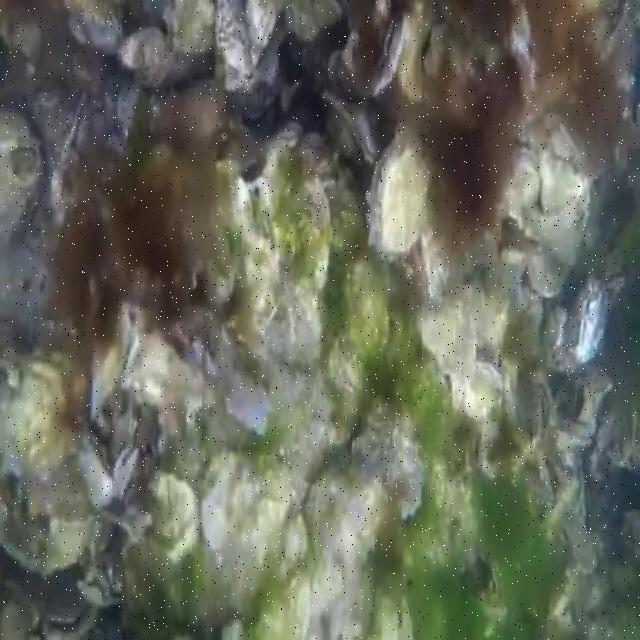Oyster-Closed: (0, 455, 114, 572), (0, 347, 87, 468), (369, 132, 434, 262), (0, 105, 41, 251), (217, 332, 270, 431), (414, 303, 479, 379), (576, 267, 625, 364), (343, 260, 390, 352), (325, 90, 379, 164), (251, 574, 310, 640), (372, 11, 409, 96), (77, 429, 114, 507), (508, 1, 538, 96), (119, 28, 170, 83), (65, 0, 125, 46), (163, 0, 217, 51), (504, 152, 539, 228), (216, 0, 251, 75), (0, 0, 40, 58), (421, 212, 448, 297), (542, 153, 578, 215), (284, 0, 341, 39), (246, 0, 280, 64), (527, 248, 568, 296), (466, 365, 503, 415), (562, 513, 594, 570), (116, 299, 139, 369), (80, 570, 123, 605), (118, 84, 146, 136), (421, 25, 449, 76), (113, 446, 139, 498), (573, 377, 596, 421), (583, 364, 612, 393), (374, 0, 393, 22), (487, 571, 499, 596), (632, 100, 640, 122)
Oyster-Open: (39, 589, 99, 640), (529, 370, 550, 442)
